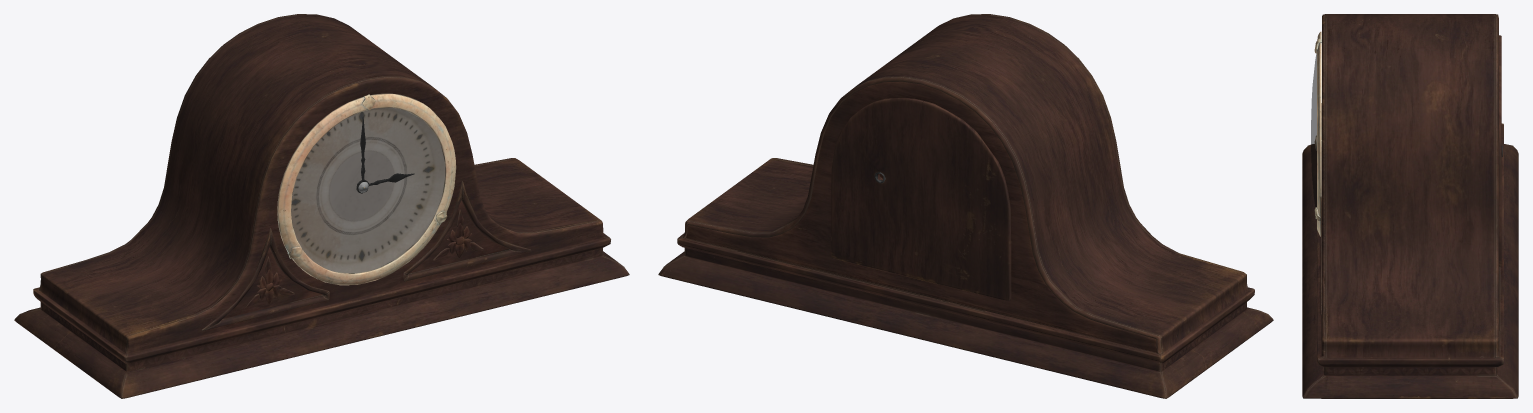
File: mantel_clock_01_lod2.glb
The picture shows the model from 3 angles, left to right: view 1: azimuth 30°, elevation 25°; view 2: azimuth 150°, elevation 25°; view 3: azimuth 270°, elevation 25°; orthographic projection.
Visible parts, largest first — view 1: mantel_clock_01, mantel_clock_01_glass; view 2: mantel_clock_01; view 3: mantel_clock_01, mantel_clock_01_glass.
Part boxes in pixels (x1,y1,x2,y2): mantel_clock_01: (14, 14, 629, 398); mantel_clock_01_glass: (291, 108, 445, 273); mantel_clock_01: (658, 14, 1273, 398); mantel_clock_01: (1302, 14, 1518, 398); mantel_clock_01_glass: (1311, 53, 1316, 207).
Size of the model in its own units: 0.3423 by 0.1605 by 0.1262.
Materials: 2 (2 with a texture image).
